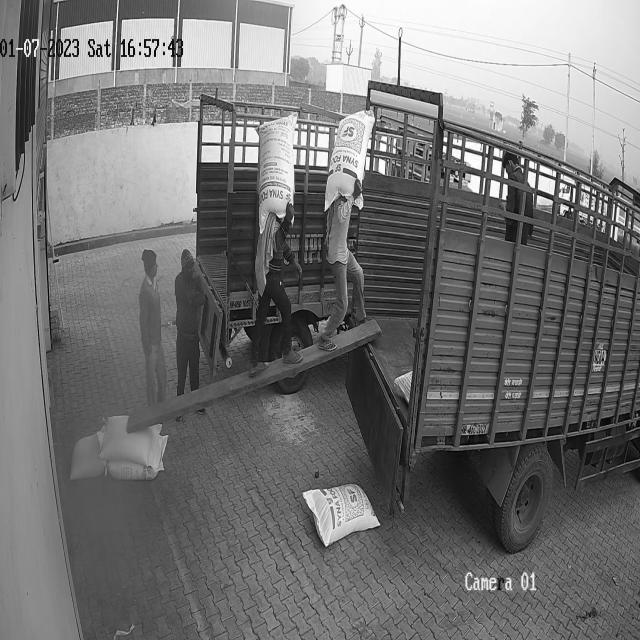sack: (324, 108, 374, 213), (302, 484, 380, 546), (257, 112, 296, 236), (99, 413, 162, 467), (106, 435, 168, 478), (68, 428, 106, 479)
